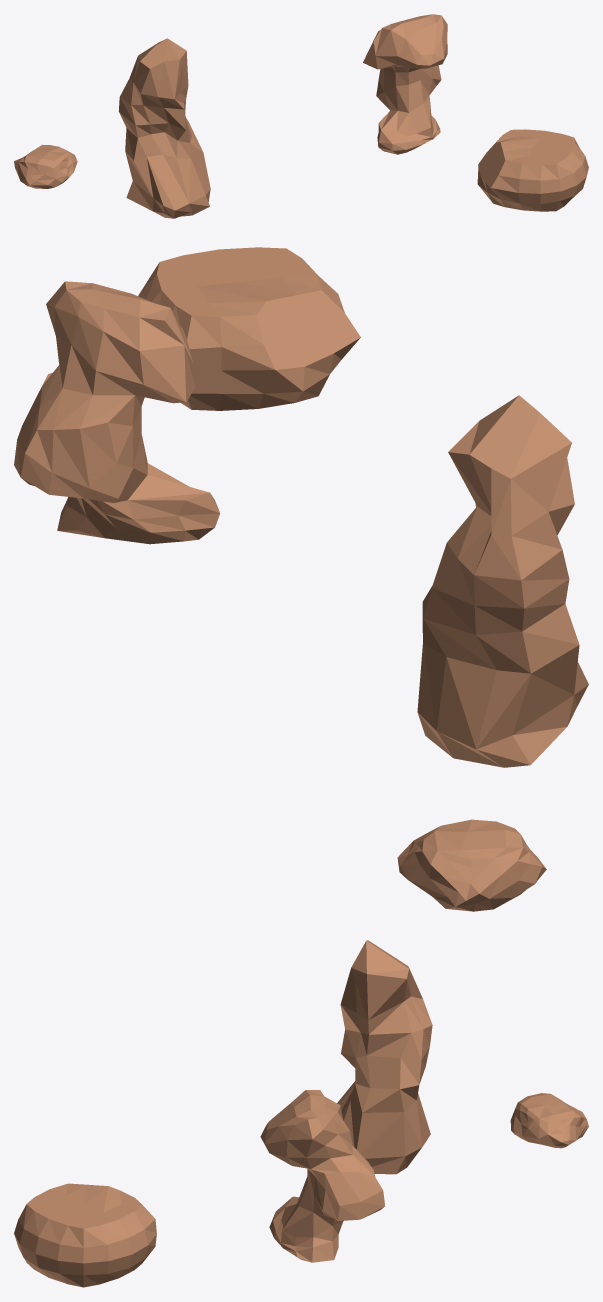
Rendered from desert-13-10.glb.
3 views of the same model, one above another, from view 1: azimuth 30°, elevation 25°; view 2: azimuth 150°, elevation 25°; view 3: azimuth 270°, elevation 25° (orthographic). The views are drawn at different scales.
Parts seen in each view (by area): view 1: desert-13-10; view 2: desert-13-10; view 3: desert-13-10.
Boxes of the visible parts, bbox=[...] form: desert-13-10: bbox=[14, 14, 588, 218]; desert-13-10: bbox=[14, 247, 588, 911]; desert-13-10: bbox=[14, 940, 588, 1287].
Bounding box in the file's own units: 94.72 × 43.84 × 99.57.
